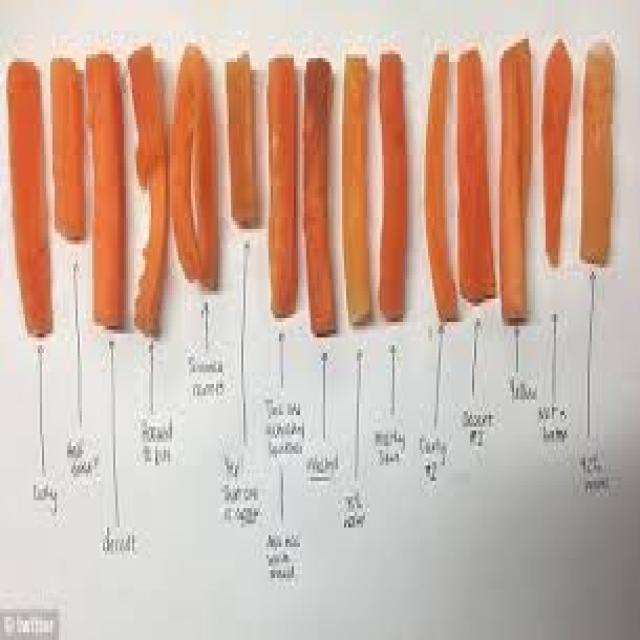Stale_Carrot: (303, 50, 340, 323), (582, 40, 616, 276)
